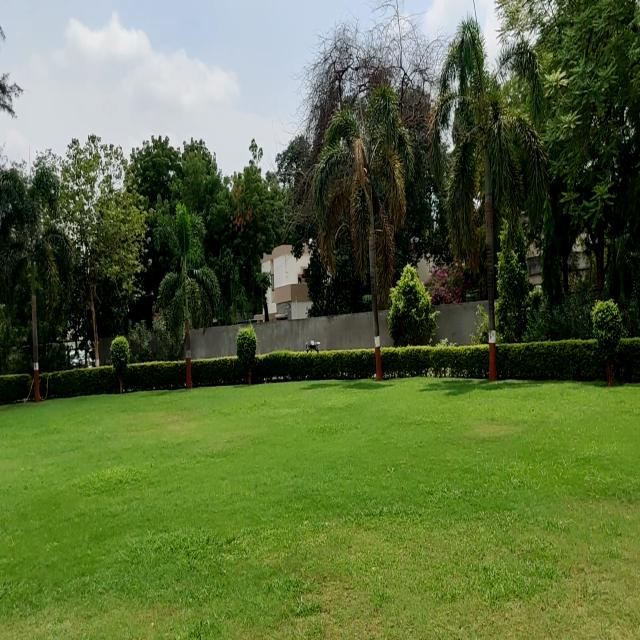drone: (300, 329, 325, 358)
